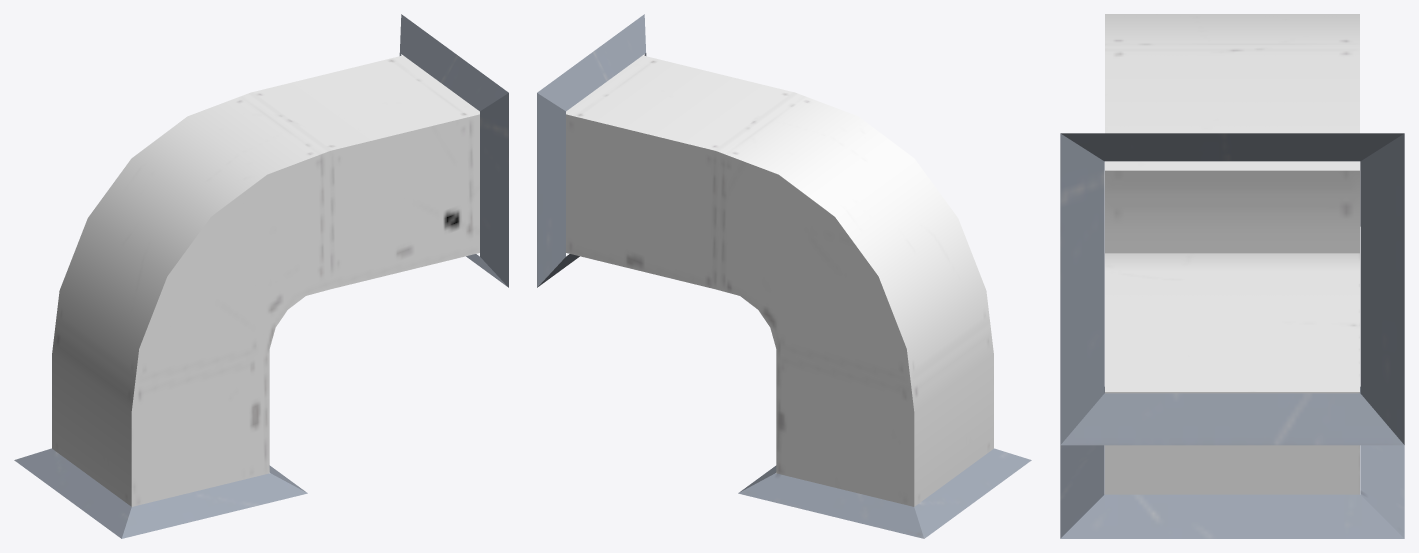
File: Pfb_Soda_ExhaustSystem1__4.fbx
3 renders of one model, left to right at view 1: azimuth 30°, elevation 25°; view 2: azimuth 150°, elevation 25°; view 3: azimuth 270°, elevation 25°, orthographic. The views are drawn at different scales.
Parts seen in each view (by area): view 1: MAT_Soda_Pipe 1; view 2: MAT_Soda_Pipe 1; view 3: MAT_Soda_Pipe 1.
Part boxes in pixels (x1,y1,x2,y2): MAT_Soda_Pipe 1: [14, 14, 508, 538]; MAT_Soda_Pipe 1: [537, 14, 1031, 538]; MAT_Soda_Pipe 1: [1060, 14, 1404, 538].
Size of the model in its own units: 1.16 by 1.01 by 0.5585.
1 material, 1 textured.
